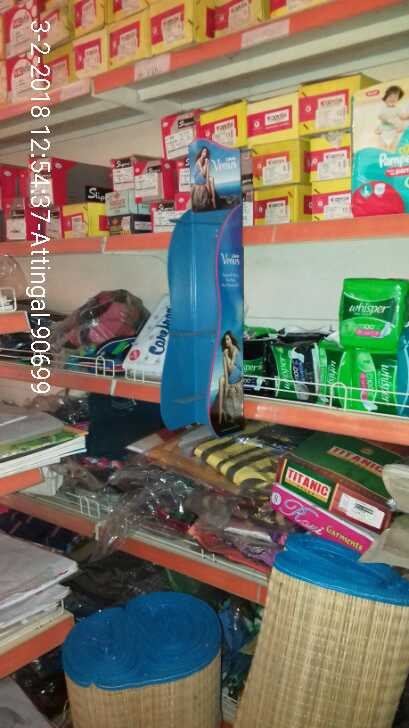pharmacy: (350, 79, 409, 213), (332, 345, 409, 412), (269, 332, 337, 406), (340, 277, 404, 355)
